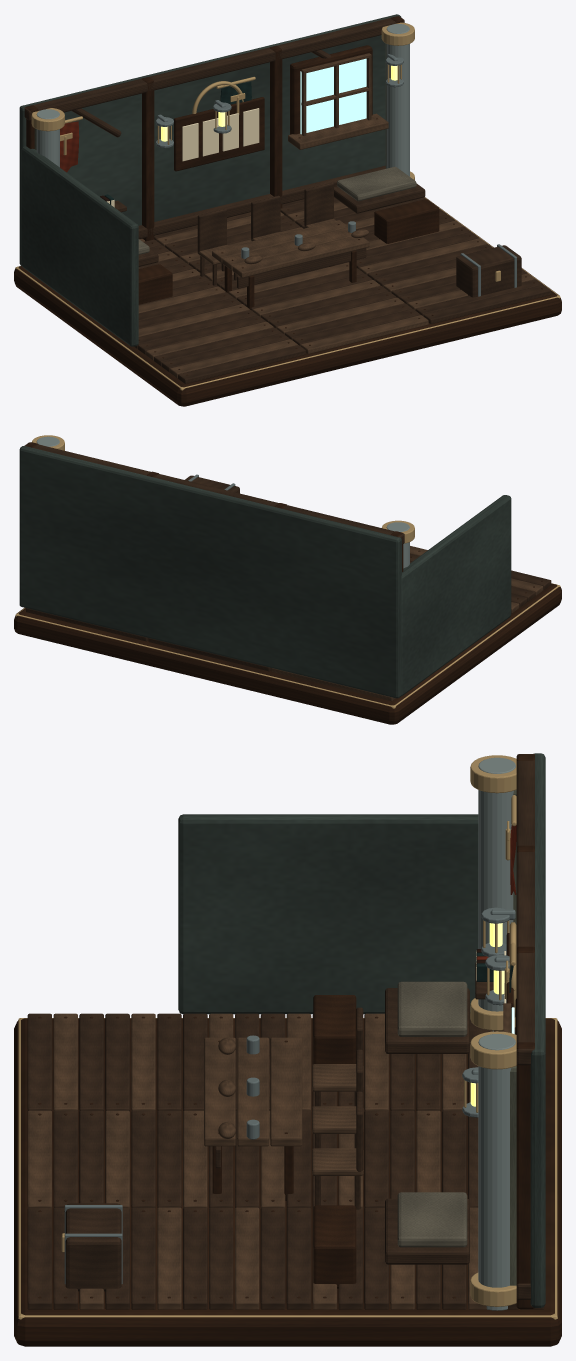
File: room-employees.glb
3 renders of one model, top to bottom at view 1: azimuth 30°, elevation 25°; view 2: azimuth 150°, elevation 25°; view 3: azimuth 270°, elevation 25°, orthographic. The views are drawn at different scales.
Parts seen in each view (by area): view 1: Part_Sage plaster, Part_Oak honey.013, Part_Oak end grain.005, Part_Oak cut edge.004, Part_Charcoal slate.001, Part_Window sky.002, Part_Oak honey.015, Part_Old parchment.002, Part_Aged brass.023, Part_Warm linen, Part_Aged brass.005, Part_Blackened iron.011 (+1 smaller); view 2: Part_Sage plaster, Part_Oak end grain.005, Part_Oak honey.013, Part_Aged brass.023, Part_Oak cut edge.004, Part_Charcoal slate.001, Part_Aged brass.005; view 3: Part_Oak honey.013, Part_Sage plaster, Part_Oak end grain.005, Part_Oak cut edge.004, Part_Charcoal slate.001, Part_Warm linen, Part_Aged brass.005, Part_Oak honey.015, Part_Aged brass.023, Part_Blackened iron.011, Part_Carved limestone.007, Part_Blackened iron.002.
Part boxes in pixels (<box>): Part_Sage plaster: <box>19,14,401,346</box>; Part_Oak honey.013: <box>24,16,551,383</box>; Part_Oak end grain.005: <box>14,16,561,406</box>; Part_Oak cut edge.004: <box>138,53,534,377</box>; Part_Charcoal slate.001: <box>36,24,409,176</box>; Part_Window sky.002: <box>300,58,366,134</box>; Part_Oak honey.015: <box>456,245,521,297</box>; Part_Old parchment.002: <box>182,108,259,161</box>; Part_Aged brass.023: <box>15,76,560,390</box>; Part_Warm linen: <box>138,166,416,254</box>; Part_Aged brass.005: <box>31,22,414,180</box>; Part_Blackened iron.011: <box>155,100,355,258</box>; Part_Sage plaster: <box>19,445,511,698</box>; Part_Oak end grain.005: <box>14,442,561,724</box>; Part_Oak honey.013: <box>25,442,551,671</box>; Part_Aged brass.023: <box>15,583,560,708</box>; Part_Oak cut edge.004: <box>271,546,543,701</box>; Part_Charcoal slate.001: <box>36,436,409,568</box>; Part_Aged brass.005: <box>32,435,414,543</box>; Part_Oak honey.013: <box>27,754,544,1309</box>; Part_Sage plaster: <box>178,753,545,1307</box>; Part_Oak end grain.005: <box>14,754,561,1346</box>; Part_Oak cut edge.004: <box>27,1003,511,1309</box>; Part_Charcoal slate.001: <box>478,757,515,1310</box>; Part_Warm linen: <box>397,981,467,1247</box>; Part_Aged brass.005: <box>470,755,516,1306</box>; Part_Oak honey.015: <box>65,1203,121,1291</box>; Part_Aged brass.023: <box>18,920,557,1319</box>; Part_Blackened iron.011: <box>246,907,515,1139</box>; Part_Carved limestone.007: <box>510,790,516,1285</box>; Part_Blackened iron.002: <box>64,1205,122,1284</box>.
Bounding box in the file's own units: 7.2 × 3.31 × 5.5.
Materials: 15 (9 with a texture image).
